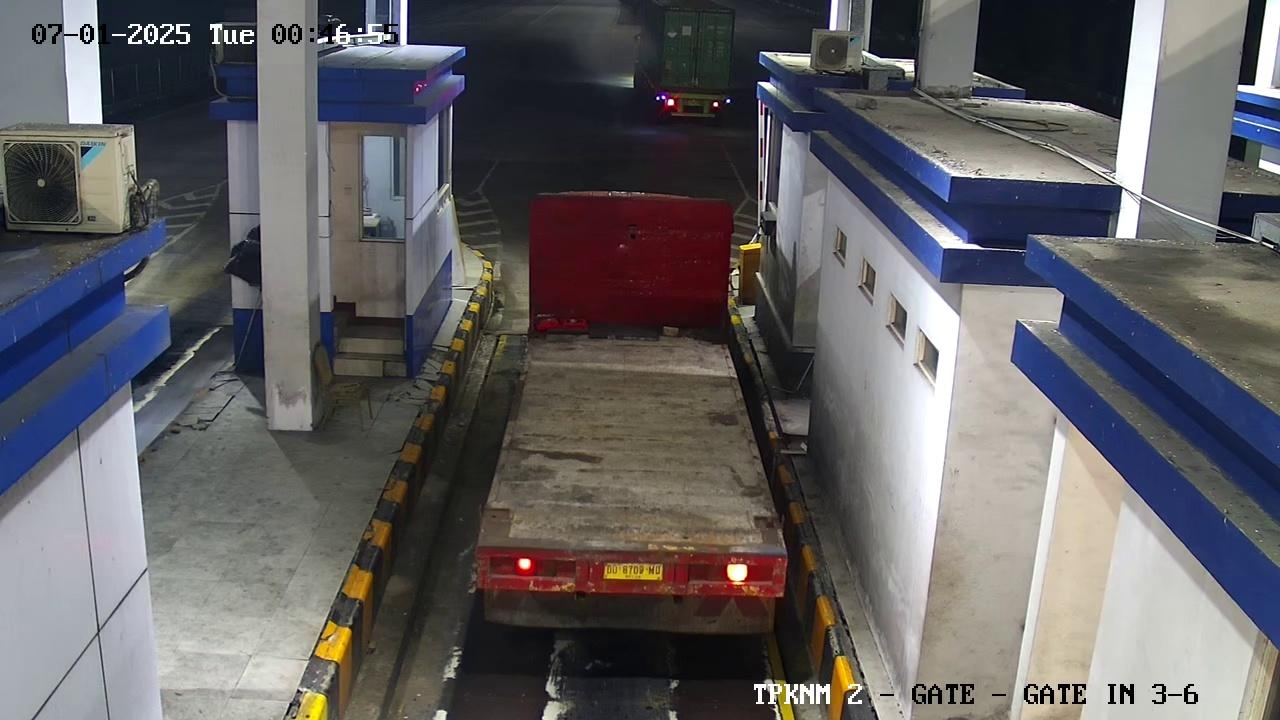plate_number: (595, 553, 677, 590)
